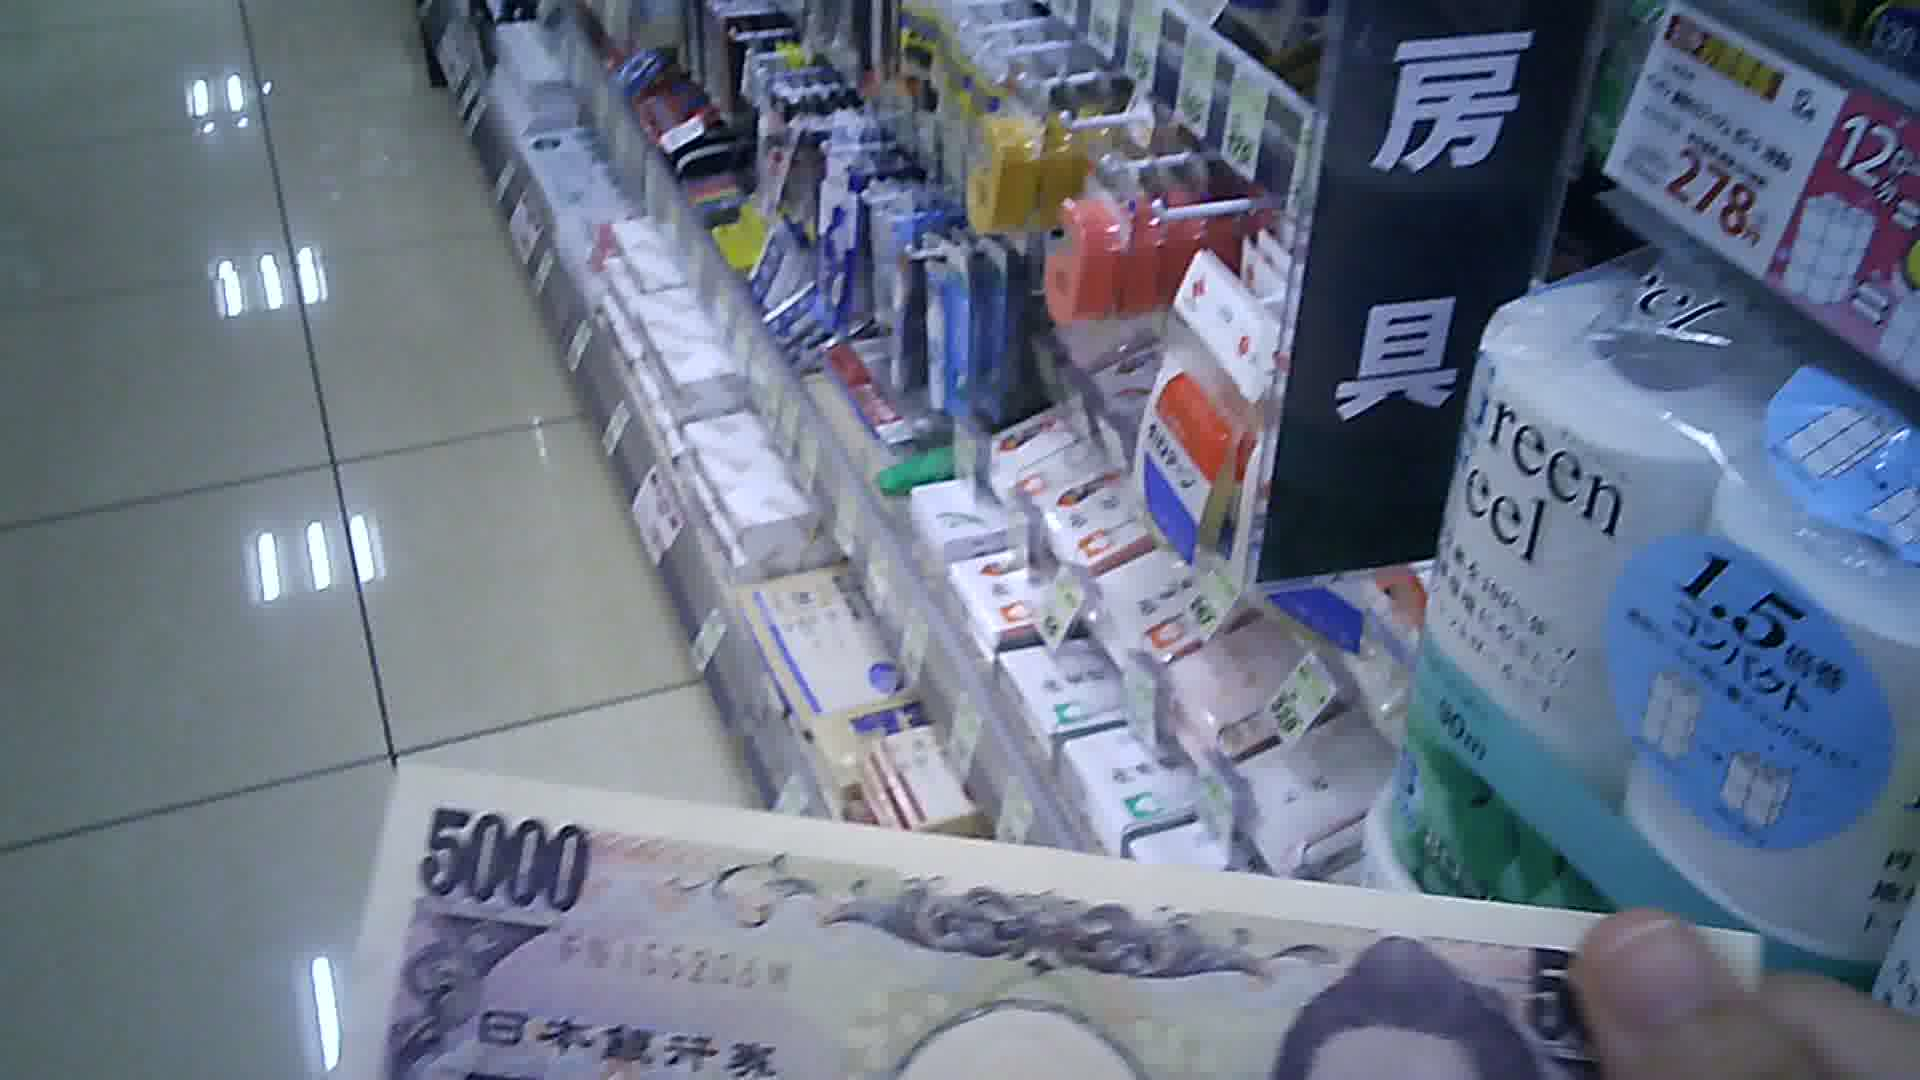5,000 Yen: (343, 764, 1572, 1079)
